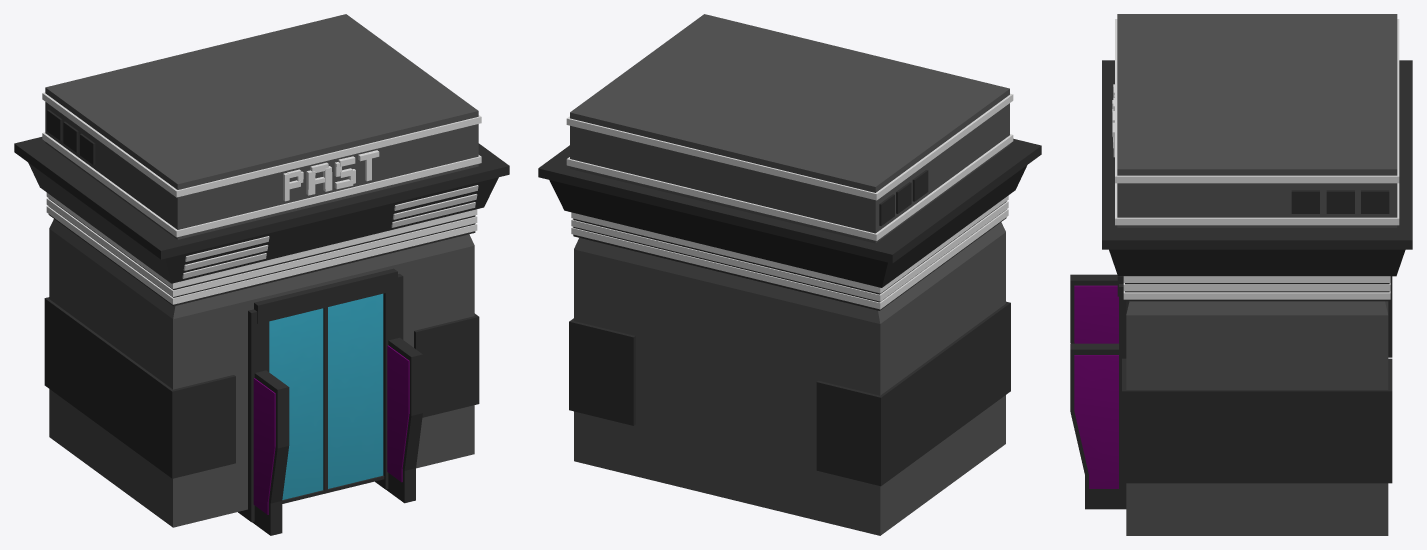
Rendered from Stall_1.fbx.
3 views of the same model, side by side, from view 1: azimuth 30°, elevation 25°; view 2: azimuth 150°, elevation 25°; view 3: azimuth 270°, elevation 25° (orthographic). The views are drawn at different scales.
Visible parts, largest first — view 1: Cube.604, Cube.609, Cube.608, Cube.588, Cube.586, Cube.587, Cube.611, Cube.610, Cube.612, A.007; view 2: Cube.604, Cube.609, Cube.608, Cube.586, Cube.588, Cube.587; view 3: Cube.604, Cube.609, Cube.608, Cube.588, Cube.586, Cube.587.
Part boxes in pixels (box(x1,y1,x2,y2)): Cube.604: box(14, 14, 509, 535); Cube.609: box(42, 92, 481, 197); Cube.608: box(42, 132, 481, 237); Cube.588: box(46, 206, 477, 304); Cube.586: box(46, 198, 477, 296); Cube.587: box(46, 192, 477, 288); Cube.611: box(183, 194, 477, 270); Cube.610: box(182, 202, 475, 278); Cube.612: box(185, 185, 478, 261); A.007: box(306, 162, 332, 195); Cube.604: box(538, 14, 1041, 535); Cube.609: box(566, 93, 1013, 200); Cube.608: box(566, 134, 1013, 240); Cube.586: box(571, 201, 1008, 301); Cube.588: box(571, 209, 1008, 309); Cube.587: box(571, 195, 1008, 293); Cube.604: box(1070, 14, 1412, 535); Cube.609: box(1115, 19, 1399, 183); Cube.608: box(1115, 183, 1399, 225); Cube.588: box(1123, 291, 1390, 299); Cube.586: box(1123, 283, 1390, 291); Cube.587: box(1123, 276, 1390, 282).
Size of the model in its own units: 370 by 364 by 297.
